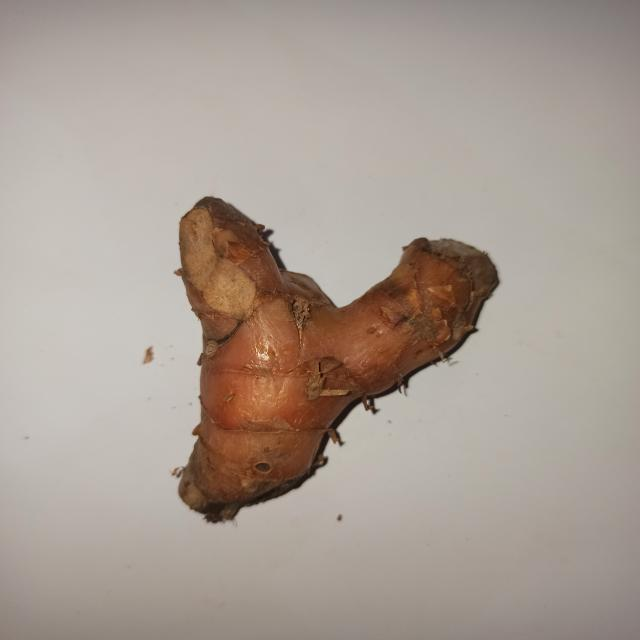ginger: (158, 201, 508, 508)
